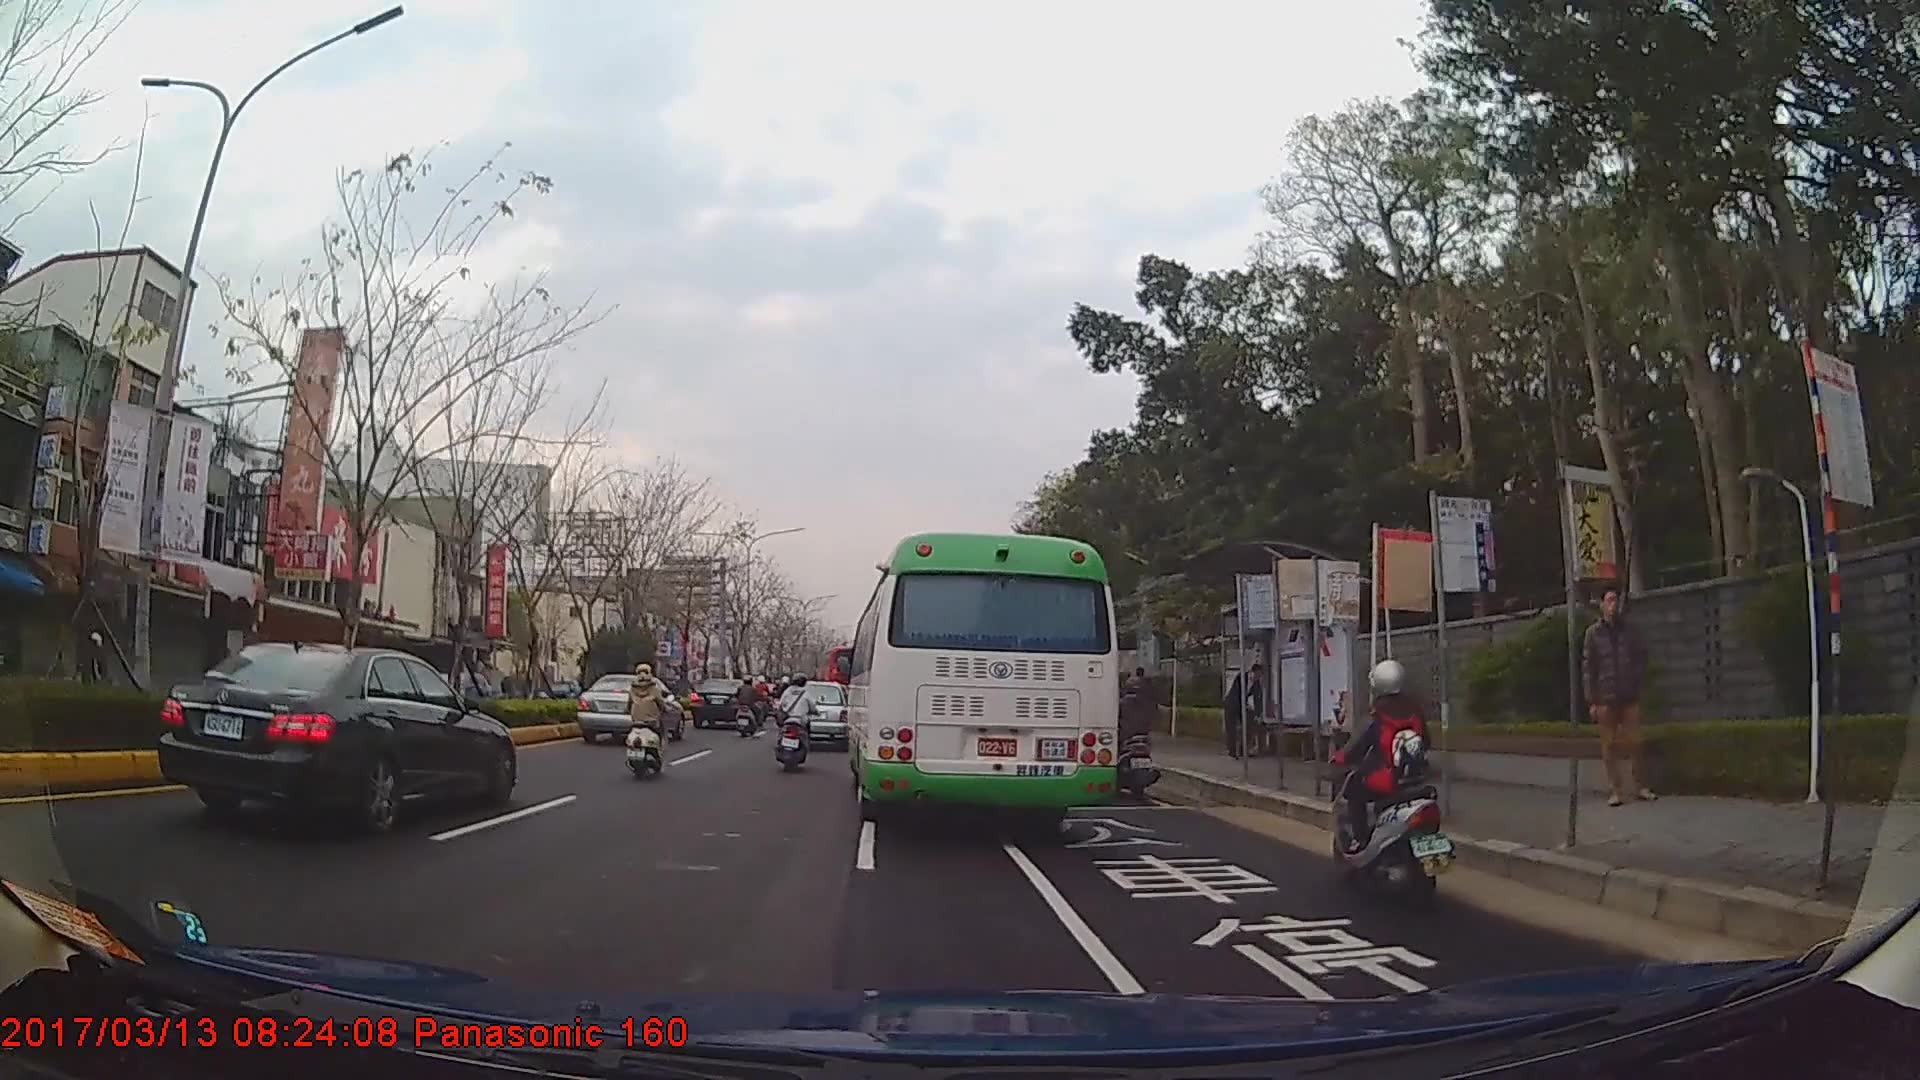pedestrian: (1579, 591, 1655, 810), (1219, 663, 1271, 762)
rider: (1328, 658, 1458, 907), (1112, 675, 1168, 803), (625, 663, 673, 777), (778, 679, 824, 775), (735, 675, 764, 741), (80, 632, 107, 683)
vehicle: (845, 533, 1120, 832), (153, 639, 516, 840), (577, 672, 685, 743), (783, 678, 853, 748), (689, 677, 756, 731)
